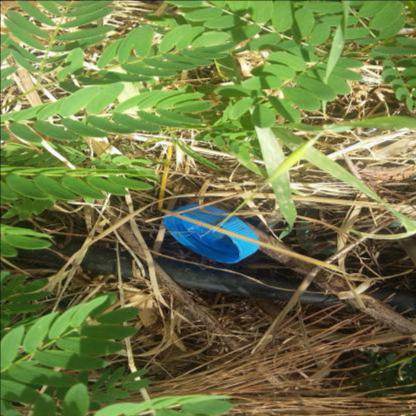Bottle: (163, 204, 259, 264)
